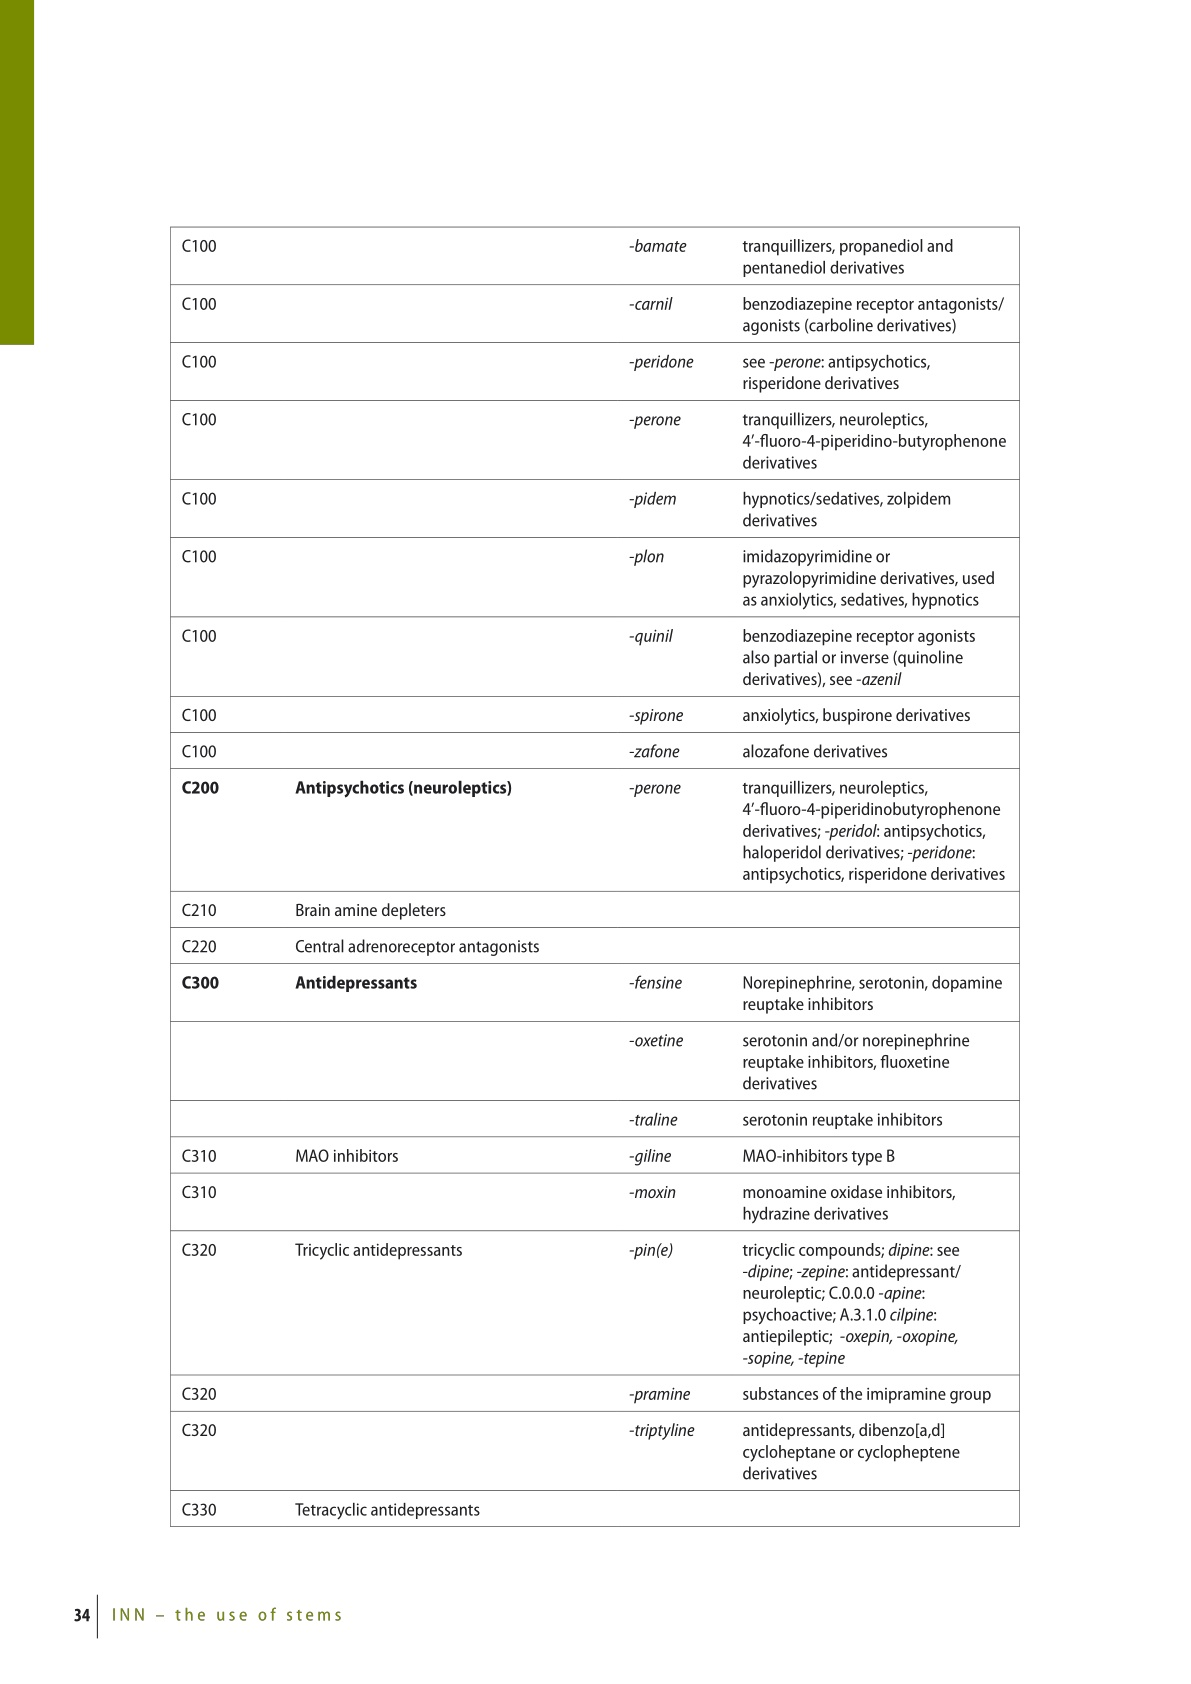partial_lined: (169, 225, 1021, 1528)
